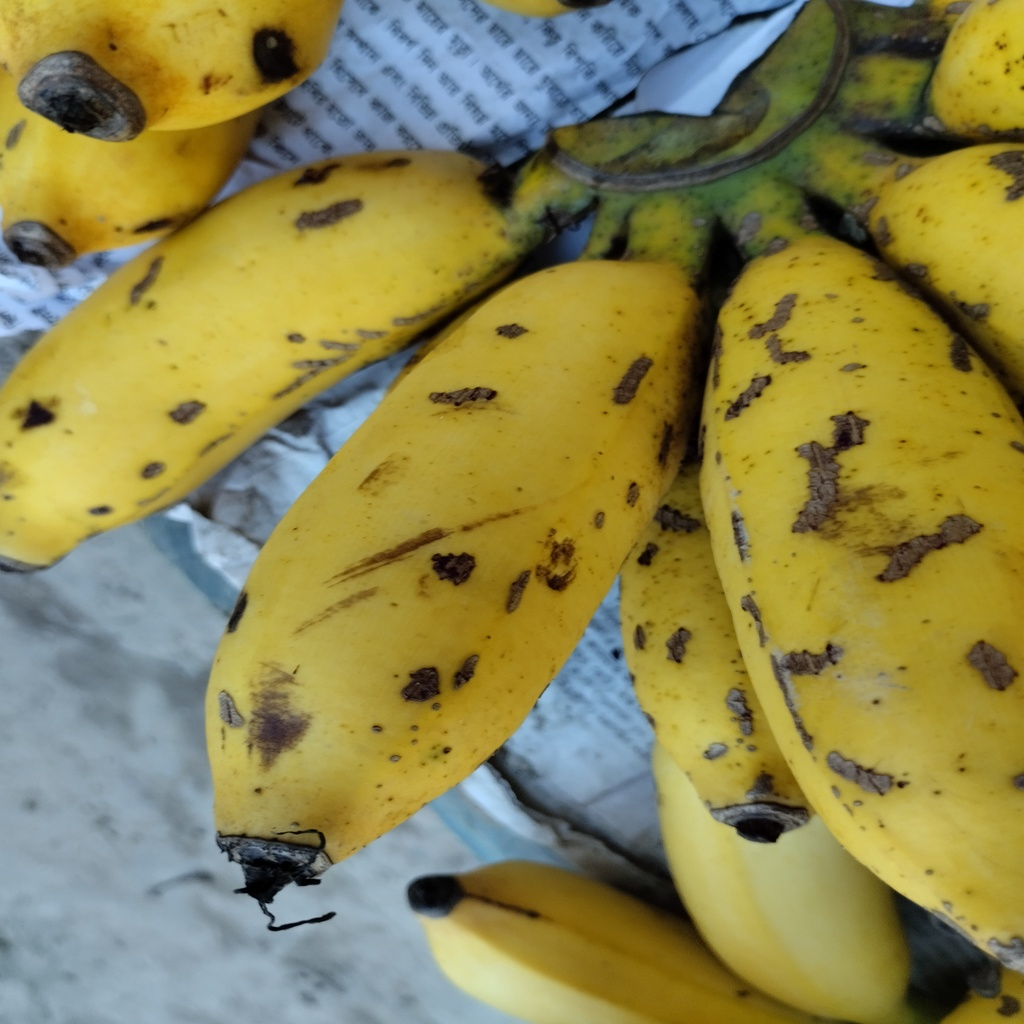unhealthy: (207, 257, 709, 898), (701, 240, 1024, 970), (1, 150, 510, 578)
